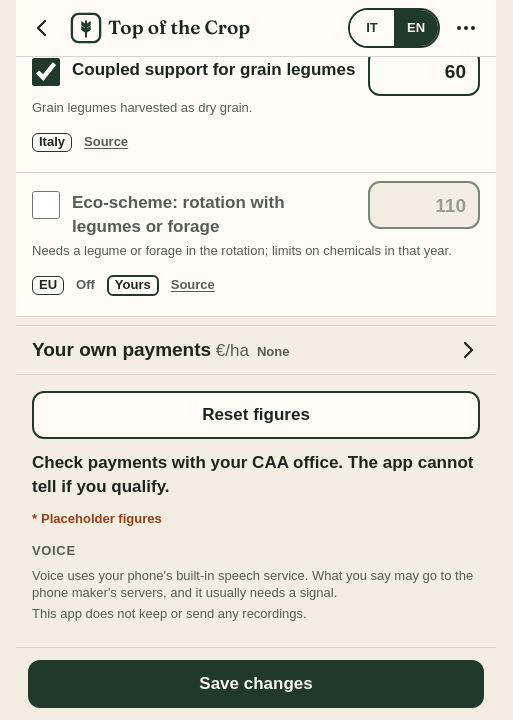
Settings › (e) Reset empties m from the link and is disabled afterwards
(page scrolled)
Click the button "Reset figures" at [256, 415], box [32, 391, 480, 439]
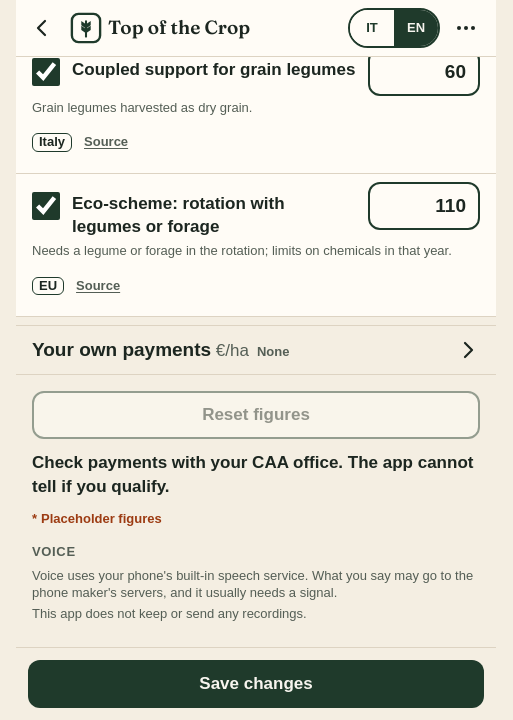
Check: the button "Reset figures" is disabled, box [32, 391, 480, 439]
Check: the checkbox labelled "Eco-scheme: rotation with legumes or forage" is checked, box [32, 192, 60, 220]
